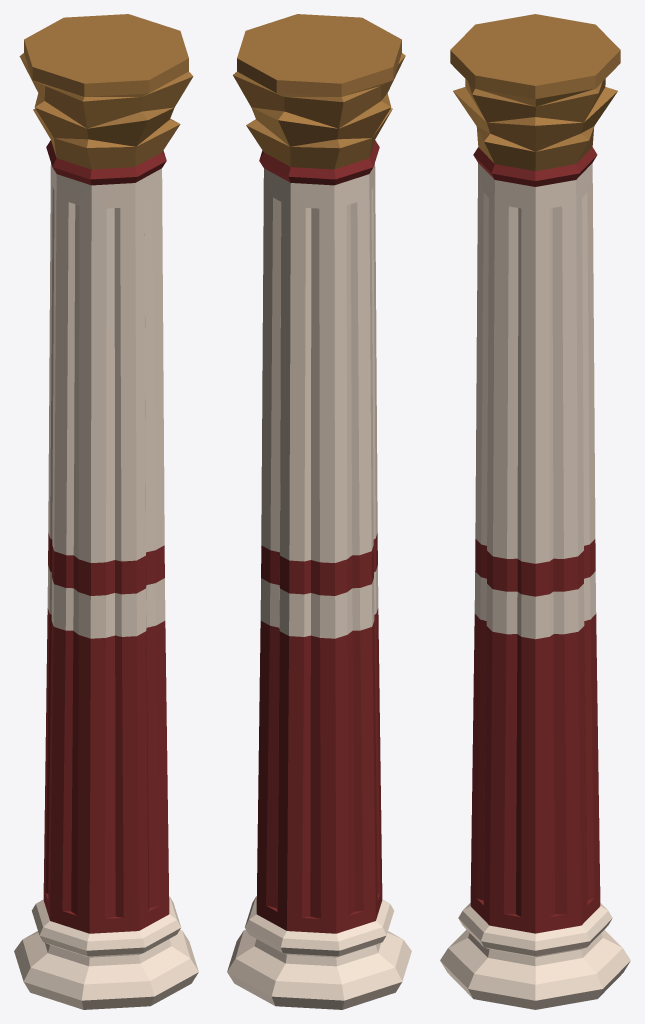
Rendered from empire-pillar-corinthian-big-color-empire.glb.
3 renders of one model, left to right at view 1: azimuth 30°, elevation 25°; view 2: azimuth 150°, elevation 25°; view 3: azimuth 270°, elevation 25°, orthographic.
Parts seen in each view (by area): view 1: SM_Pillar_Corinthian_Big_Color_Empire; view 2: SM_Pillar_Corinthian_Big_Color_Empire; view 3: SM_Pillar_Corinthian_Big_Color_Empire.
Boxes of the visible parts, x1,y1,x2,y2 form: SM_Pillar_Corinthian_Big_Color_Empire: (14, 14, 198, 1009); SM_Pillar_Corinthian_Big_Color_Empire: (227, 14, 411, 1009); SM_Pillar_Corinthian_Big_Color_Empire: (440, 14, 630, 1009).
Bounding box in the file's own units: 1.88 × 10.01 × 1.88.
